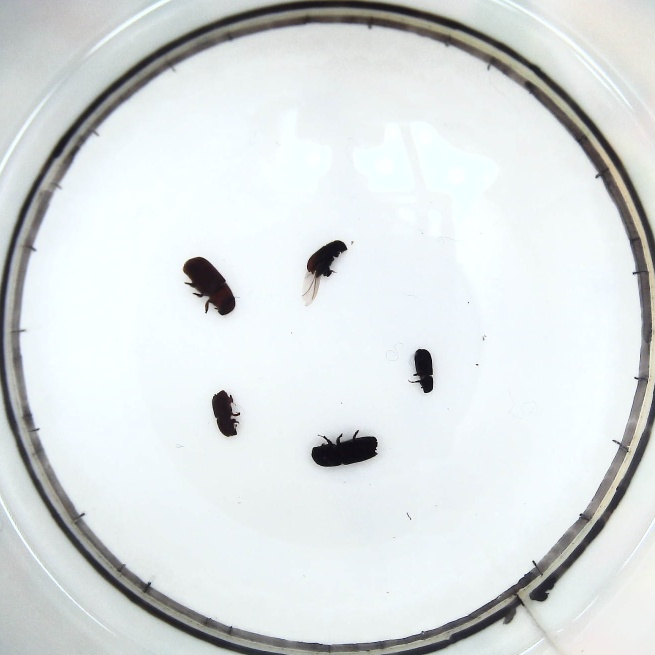armandi: (302, 237, 350, 302)
boerner: (308, 427, 380, 470)
coleoptera: (407, 347, 437, 397)
leconte: (181, 254, 239, 319)
linnaeus: (211, 387, 242, 438)
